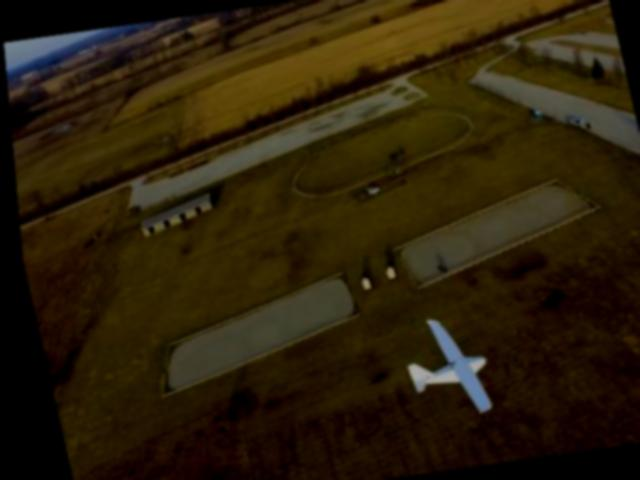uav: (380, 304, 508, 428)
